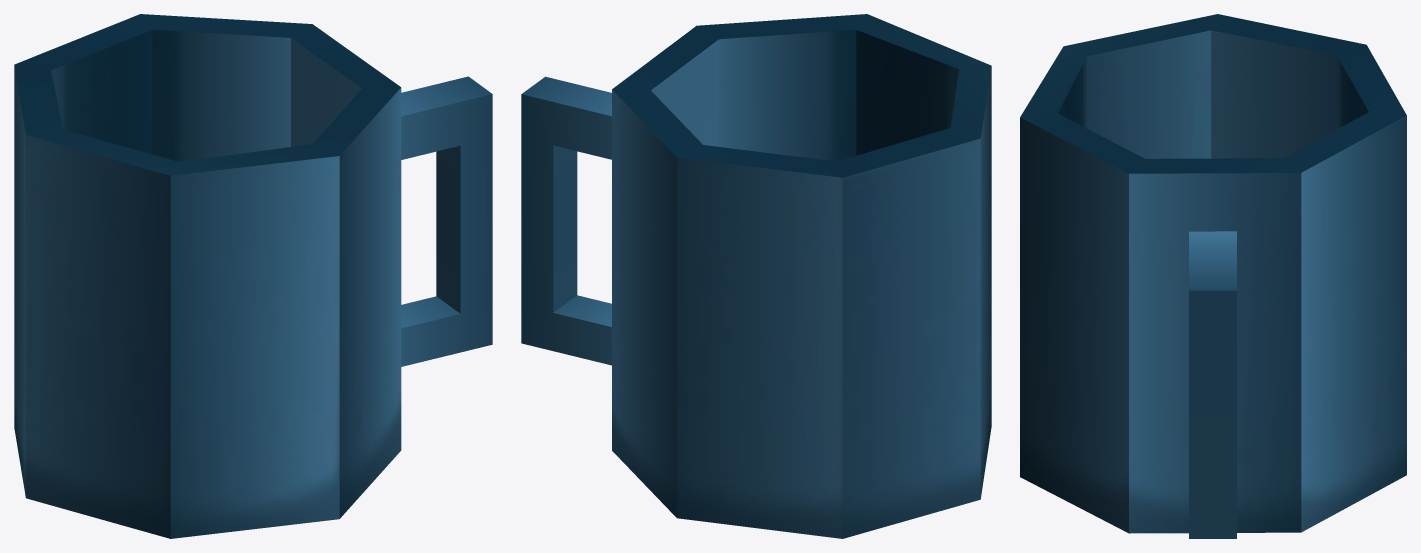
The model's file is mug.fbx.
3 renders of one model, left to right at view 1: azimuth 30°, elevation 25°; view 2: azimuth 150°, elevation 25°; view 3: azimuth 270°, elevation 25°, orthographic.
Parts seen in each view (by area): view 1: Cylinder, Cube; view 2: Cylinder, Cube; view 3: Cylinder, Cube.
Boxes of the visible parts, <box> form: Cylinder: <box>14,14,401,538</box>; Cube: <box>401,76,492,366</box>; Cylinder: <box>612,14,991,538</box>; Cube: <box>521,76,611,365</box>; Cylinder: <box>1020,14,1406,533</box>; Cube: <box>1189,231,1236,538</box>.
Size of the model in its own units: 35.84 by 27.5 by 26.81.
